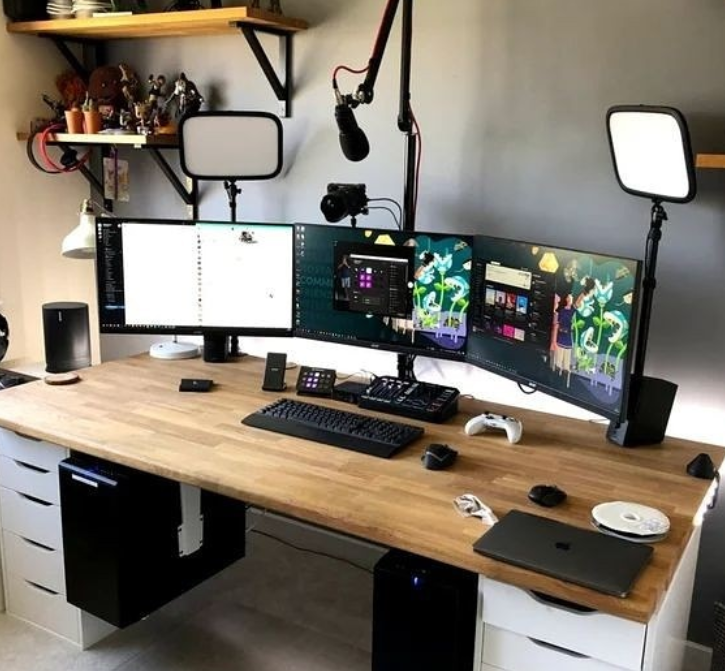gamingconsole: (465, 410, 522, 447)
